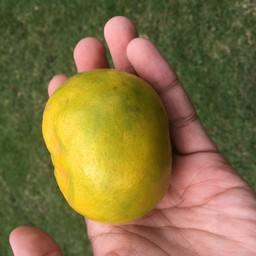Good_orange: (43, 63, 178, 225)
